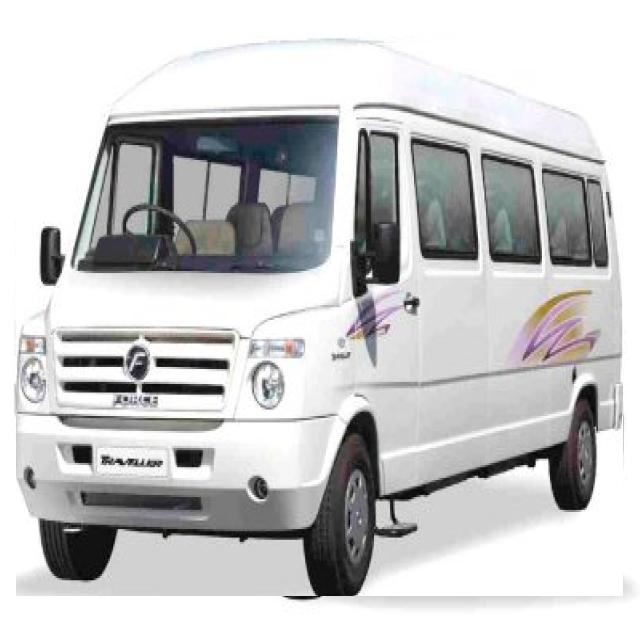autorickshaw: (0, 3, 640, 637)
bus: (16, 43, 622, 596)
